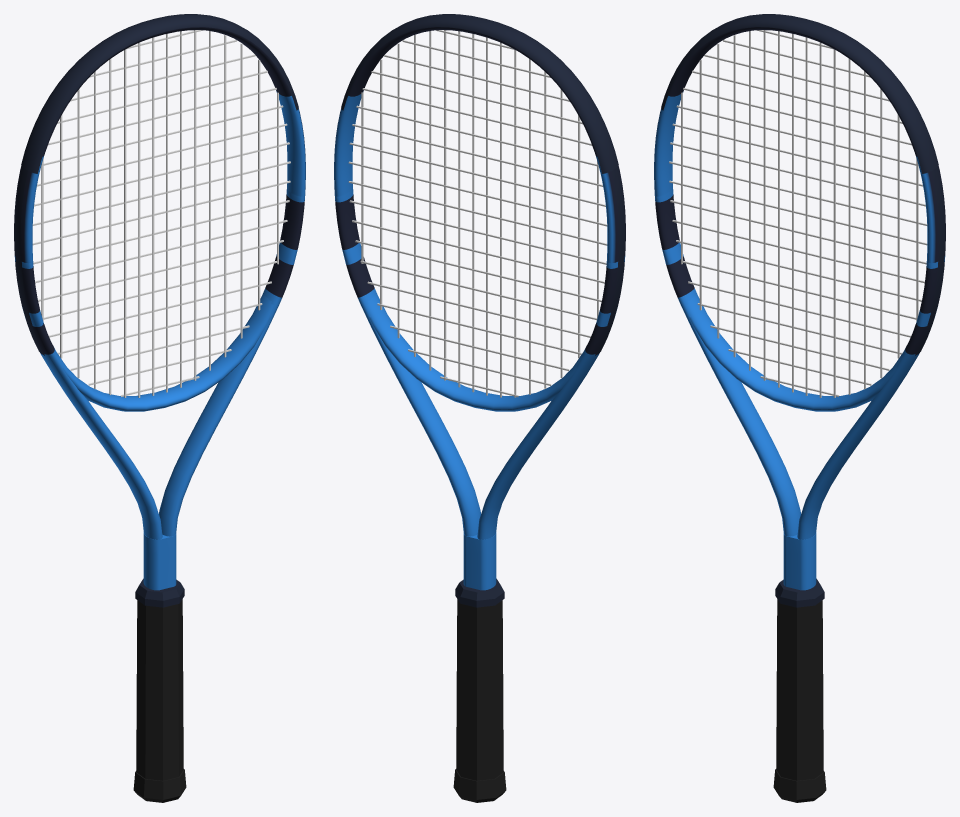
Rendered from babolat-pure-drive-98-2023.glb.
3 renders of one model, left to right at view 1: azimuth 30°, elevation 25°; view 2: azimuth 150°, elevation 25°; view 3: azimuth 330°, elevation 25°, orthographic.
Visible parts, largest first — view 1: frame, strings_mains, strings_crosses, grip, bumper, grommets, butt_cap, collar; view 2: frame, strings_mains, strings_crosses, grip, bumper, grommets, butt_cap, collar; view 3: frame, strings_mains, strings_crosses, grip, bumper, grommets, butt_cap, collar.
Boxes of the visible parts, x1=… form: frame: x1=14, y1=27, x2=305, y2=590; strings_mains: x1=41, y1=30, x2=278, y2=397; strings_crosses: x1=32, y1=30, x2=290, y2=396; grip: x1=136, y1=599, x2=183, y2=780; bumper: x1=21, y1=14, x2=298, y2=173; grommets: x1=14, y1=167, x2=44, y2=355; butt_cap: x1=133, y1=769, x2=186, y2=802; collar: x1=135, y1=578, x2=184, y2=607; frame: x1=334, y1=27, x2=625, y2=590; strings_mains: x1=361, y1=30, x2=598, y2=397; strings_crosses: x1=348, y1=30, x2=607, y2=397; grip: x1=456, y1=599, x2=503, y2=780; bumper: x1=341, y1=14, x2=618, y2=173; grommets: x1=595, y1=167, x2=625, y2=355; butt_cap: x1=453, y1=769, x2=506, y2=802; collar: x1=455, y1=578, x2=504, y2=607; frame: x1=654, y1=27, x2=945, y2=590; strings_mains: x1=681, y1=30, x2=918, y2=397; strings_crosses: x1=669, y1=30, x2=927, y2=396; grip: x1=776, y1=599, x2=823, y2=780; bumper: x1=661, y1=14, x2=938, y2=173; grommets: x1=915, y1=167, x2=945, y2=355; butt_cap: x1=773, y1=769, x2=826, y2=802; collar: x1=775, y1=578, x2=824, y2=607.
Size of the model in its own units: 0.2653 by 0.6861 by 0.0396.
